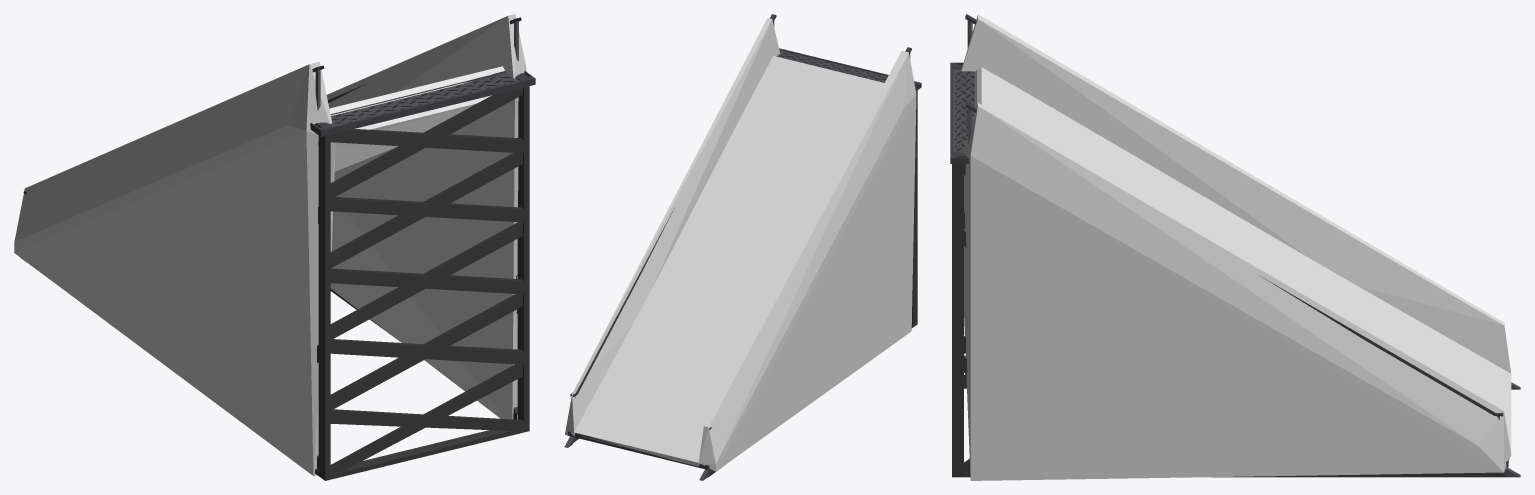
Rendered from SM_Prop_Stairs_02.fbx.
The picture shows the model from 3 angles, left to right: view 1: azimuth 30°, elevation 25°; view 2: azimuth 150°, elevation 25°; view 3: azimuth 270°, elevation 25°; orthographic projection. The views are drawn at different scales.
Visible parts, largest first — view 1: SM_Prop_Stairs_02_ConvexHulls, SM_Prop_Stairs_02_LOD0; view 2: SM_Prop_Stairs_02_ConvexHulls, SM_Prop_Stairs_02_LOD0; view 3: SM_Prop_Stairs_02_ConvexHulls, SM_Prop_Stairs_02_LOD0.
Boxes of the visible parts, left/top/right/bottom form: SM_Prop_Stairs_02_ConvexHulls: left=14, top=14, right=526, bottom=475; SM_Prop_Stairs_02_LOD0: left=20, top=17, right=535, bottom=480; SM_Prop_Stairs_02_ConvexHulls: left=565, top=18, right=916, bottom=471; SM_Prop_Stairs_02_LOD0: left=564, top=14, right=921, bottom=480; SM_Prop_Stairs_02_ConvexHulls: left=961, top=14, right=1511, bottom=480; SM_Prop_Stairs_02_LOD0: left=950, top=14, right=1520, bottom=477.
Size of the model in its own units: 804 by 327 by 583.
1 material, 1 textured.
